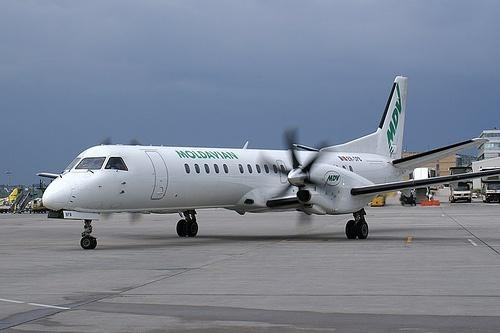aeroplane: (36, 76, 499, 250)
